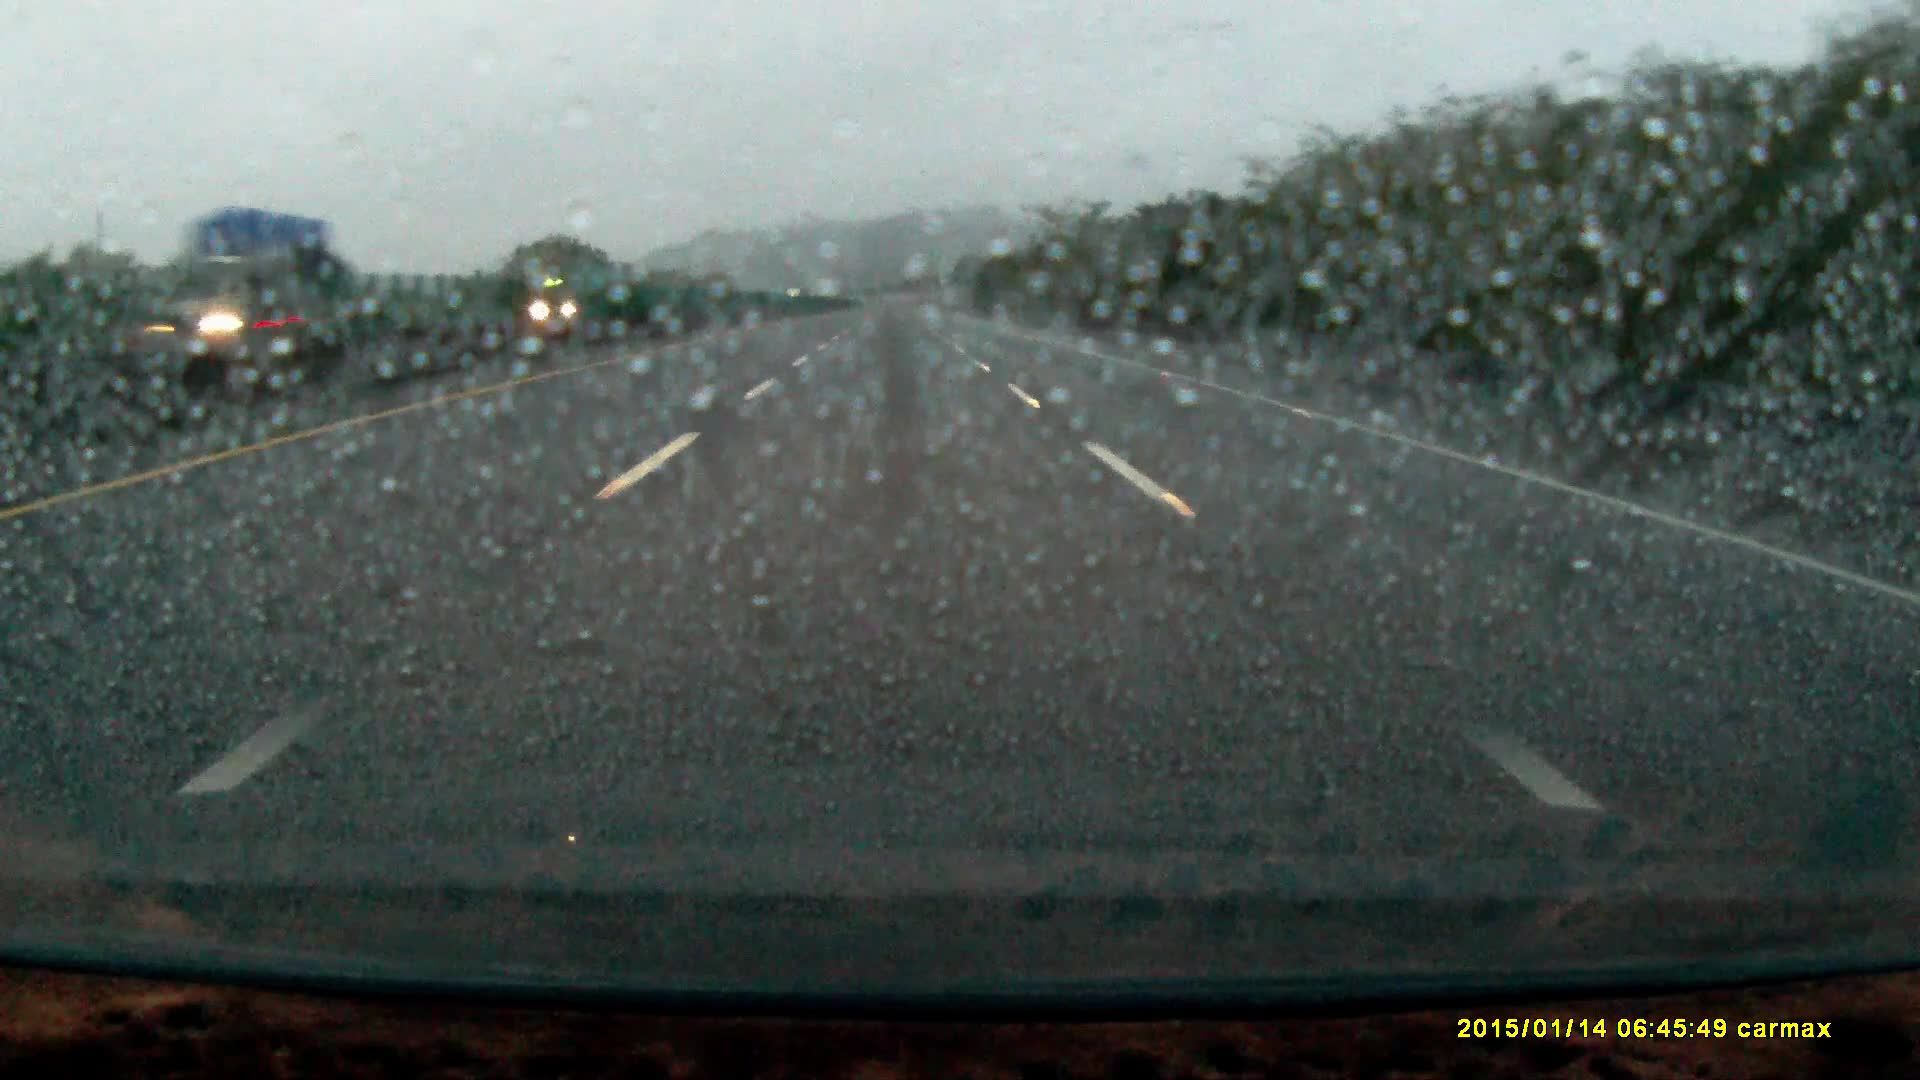vehicle: (152, 207, 327, 355), (531, 264, 621, 328)
